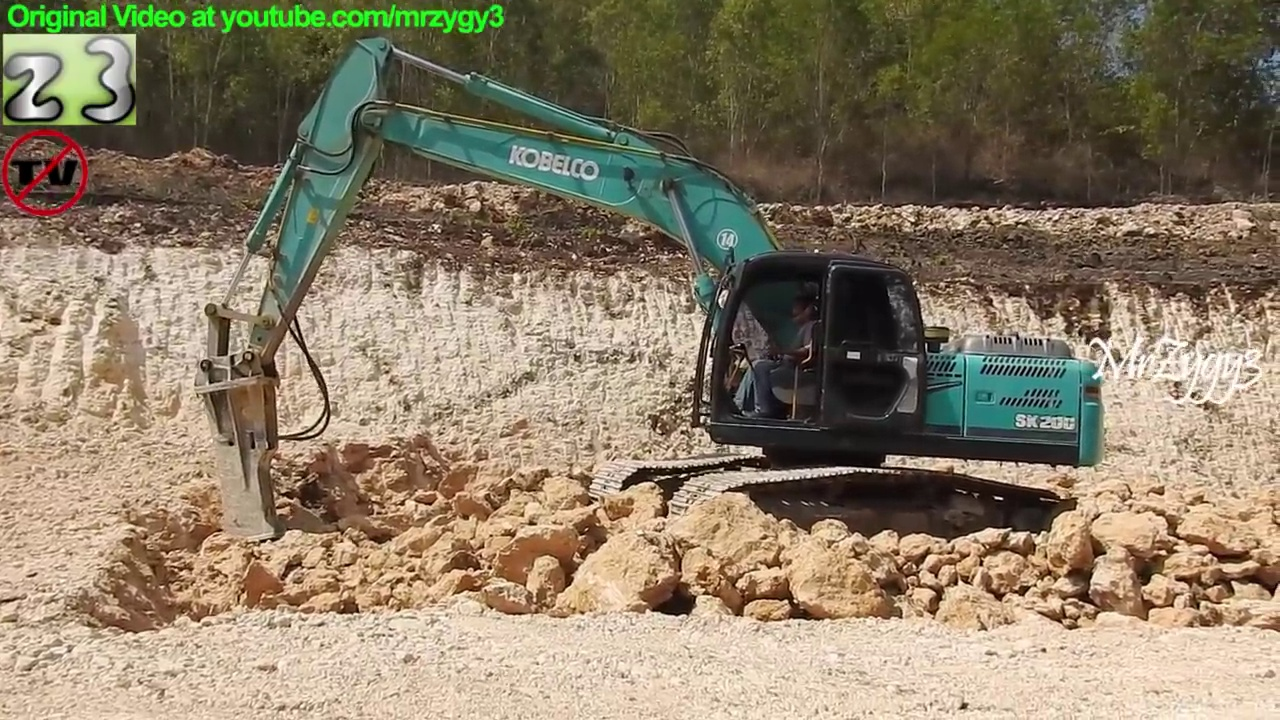excavator breaker: (192, 36, 1109, 565)
